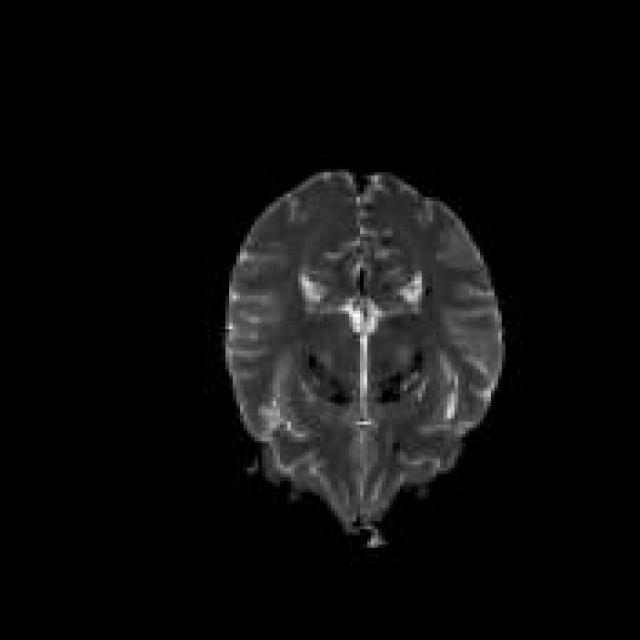parkinson: (218, 166, 506, 548)
